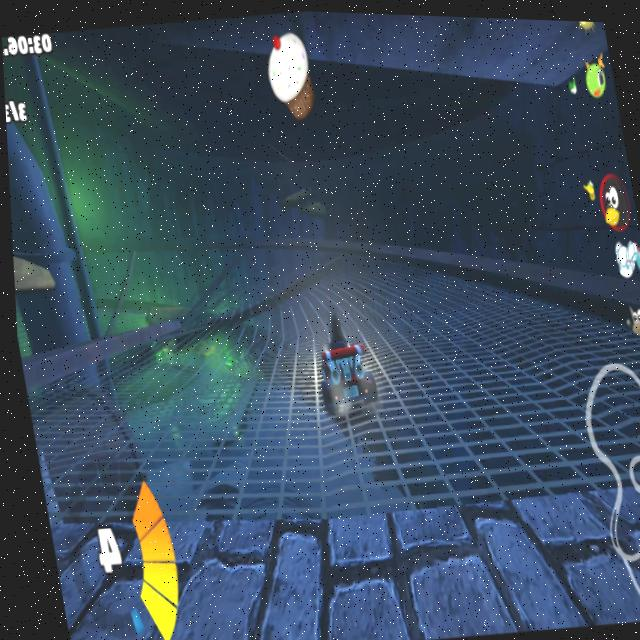off_track: (8, 196, 87, 307)
player_kart: (299, 310, 390, 417)
track: (351, 275, 561, 432), (95, 242, 288, 313)
